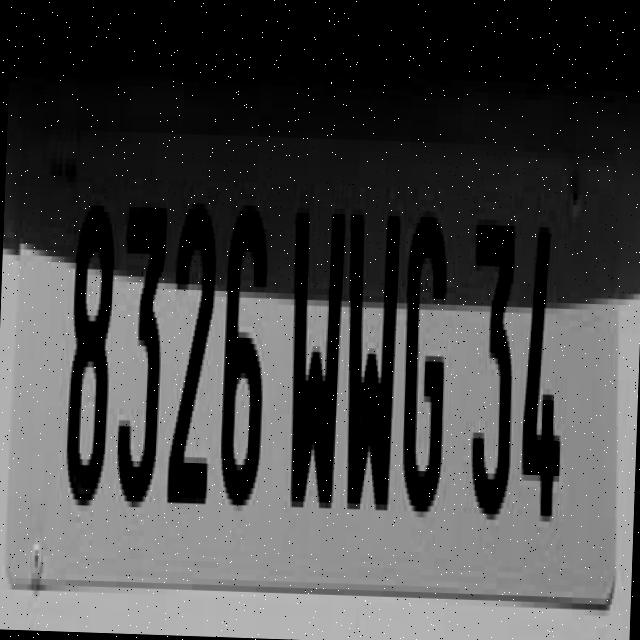Autre: (0, 71, 626, 601)
